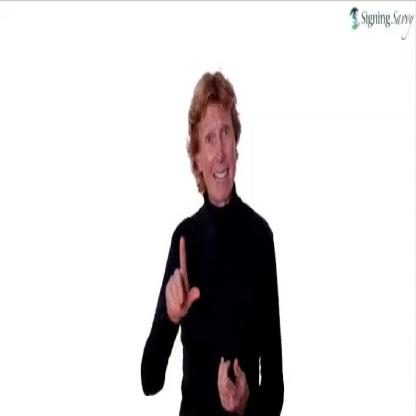NiceToMeetYou: (156, 228, 262, 416)
